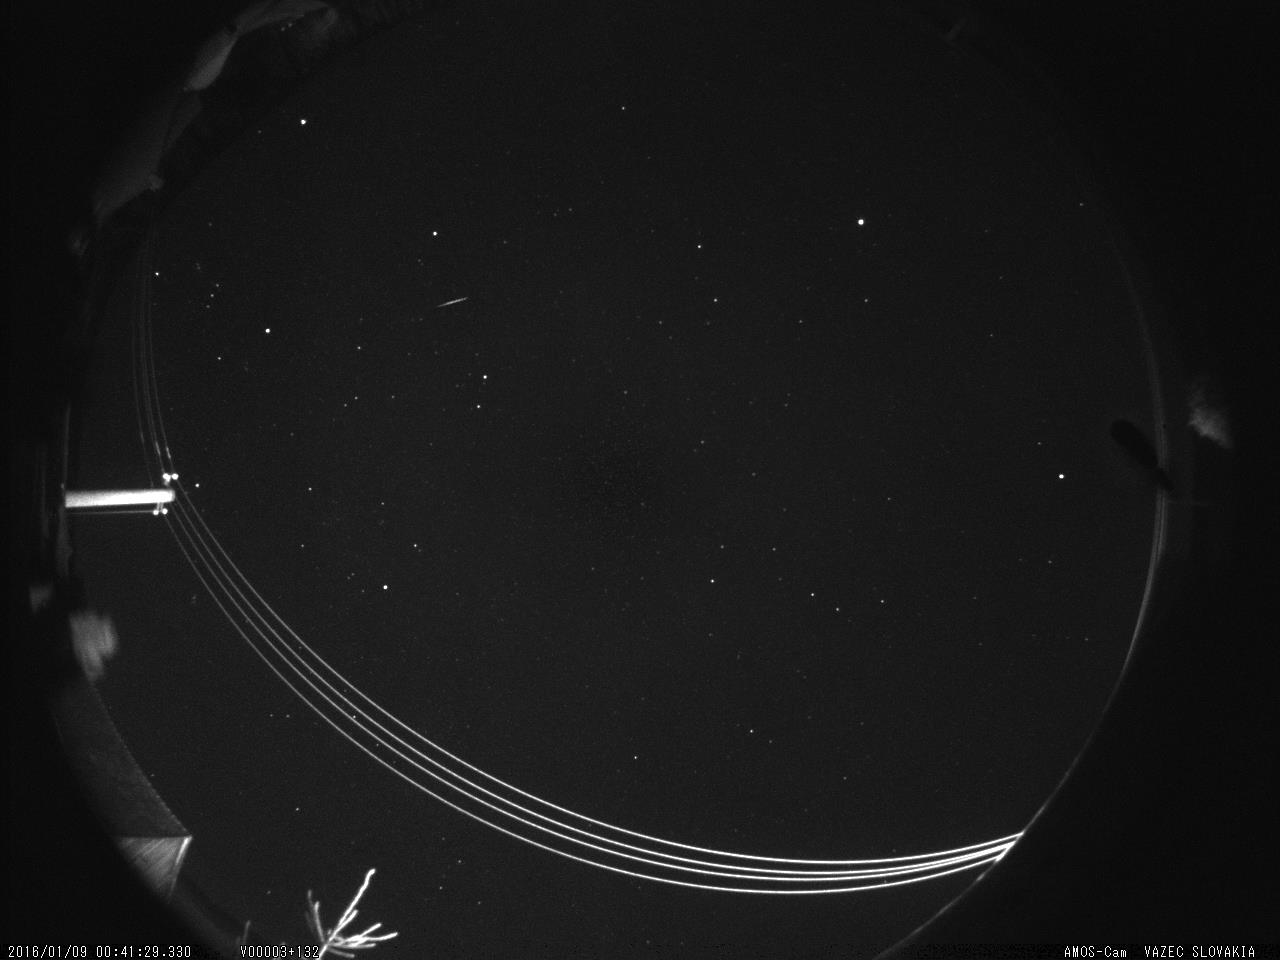meteor: (429, 291, 477, 312)
